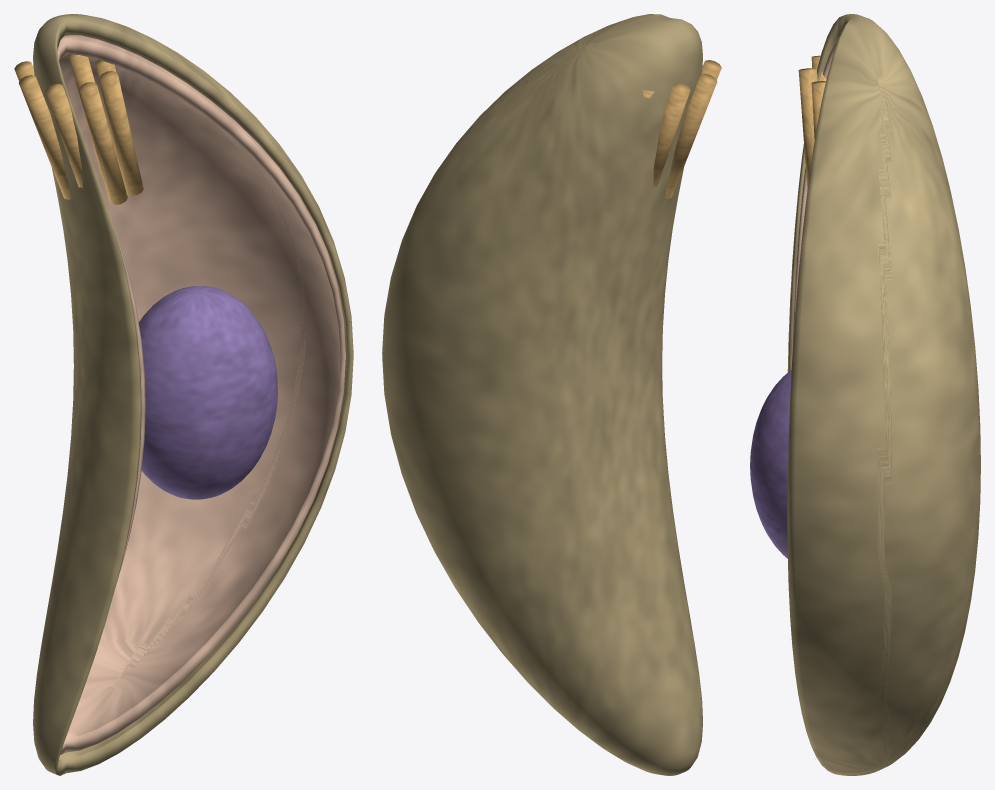
Rendered from cutaway.glb.
3 renders of one model, left to right at view 1: azimuth 30°, elevation 25°; view 2: azimuth 150°, elevation 25°; view 3: azimuth 270°, elevation 25°, orthographic.
Visible parts, largest first — view 1: citoplasma_mesh, membrana_mesh, nucleo_mesh, apical_mesh; view 2: membrana_mesh, apical_mesh; view 3: membrana_mesh, nucleo_mesh, apical_mesh, citoplasma_mesh.
Boxes of the visible parts, left/top/right/bottom form: citoplasma_mesh: left=57, top=35, right=345, bottom=754; membrana_mesh: left=33, top=14, right=353, bottom=775; nucleo_mesh: left=139, top=286, right=277, bottom=499; apical_mesh: left=14, top=54, right=143, bottom=204; membrana_mesh: left=382, top=14, right=702, bottom=775; apical_mesh: left=642, top=60, right=721, bottom=198; membrana_mesh: left=787, top=14, right=980, bottom=775; nucleo_mesh: left=750, top=370, right=791, bottom=558; apical_mesh: left=798, top=55, right=826, bottom=190; citoplasma_mesh: left=791, top=41, right=837, bottom=369.
Bounding box in the file's own units: 1.08 × 2.44 × 0.68.
4 materials, 4 textured.
